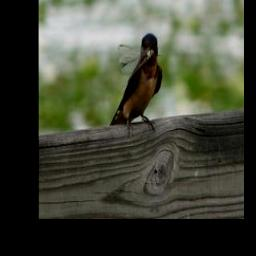Swallow: (109, 32, 162, 139)
